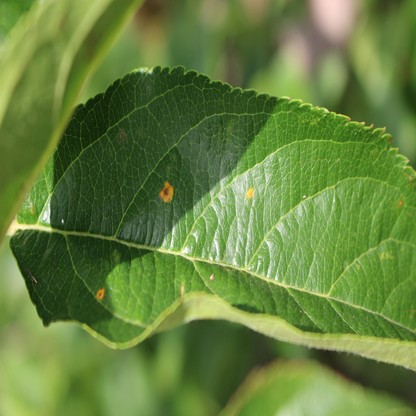rust: (160, 183, 173, 203), (245, 186, 253, 200), (96, 288, 104, 298), (398, 199, 402, 205)
